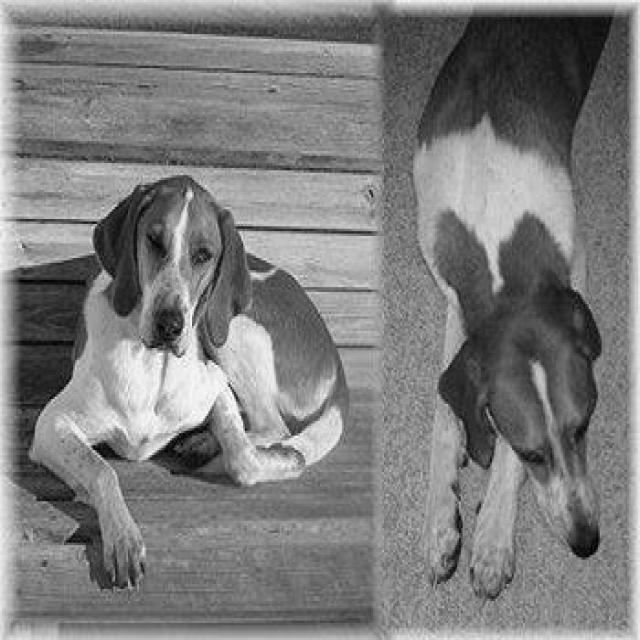laying down: (25, 167, 355, 598), (399, 2, 620, 603)
